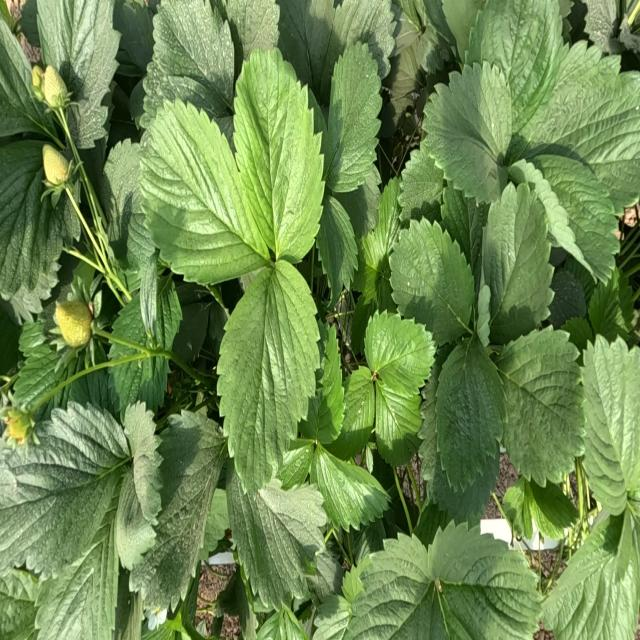Flowers: (146, 608, 166, 630)
Leaves: (218, 262, 319, 495), (138, 106, 264, 283), (1, 404, 127, 575), (234, 47, 323, 263), (133, 412, 226, 608), (469, 0, 566, 147), (511, 153, 619, 281), (496, 328, 584, 484), (430, 522, 542, 639), (229, 475, 326, 606), (422, 63, 513, 201), (419, 367, 499, 523), (543, 509, 639, 638), (143, 1, 234, 127), (483, 182, 551, 342), (435, 339, 503, 494), (0, 146, 64, 310), (391, 219, 474, 344), (525, 41, 618, 152), (345, 534, 438, 639), (35, 521, 118, 638), (580, 335, 639, 492), (575, 72, 639, 209), (37, 0, 119, 106), (351, 180, 401, 350), (326, 42, 383, 191), (389, 0, 456, 126), (108, 297, 164, 412), (311, 446, 388, 529), (0, 18, 53, 136), (561, 268, 636, 350), (364, 312, 435, 396), (100, 139, 147, 265), (328, 1, 395, 76), (277, 0, 334, 86), (124, 401, 162, 523), (329, 366, 375, 459), (307, 324, 343, 442), (316, 196, 358, 297), (116, 469, 156, 570), (388, 9, 422, 126), (441, 187, 486, 272), (375, 384, 421, 466), (226, 0, 279, 70), (14, 344, 65, 409), (399, 146, 443, 221), (140, 255, 178, 339), (525, 480, 578, 539), (216, 564, 255, 639), (114, 1, 154, 71), (442, 0, 484, 60), (1, 568, 35, 639), (69, 370, 119, 417), (548, 269, 586, 327), (172, 303, 207, 365), (200, 488, 230, 559), (503, 476, 534, 539), (414, 500, 452, 548), (583, 0, 617, 52), (308, 549, 343, 599), (257, 605, 308, 639), (313, 595, 351, 639), (71, 103, 107, 147), (352, 519, 385, 562), (21, 324, 40, 343)
Strawberries: (54, 298, 91, 347), (0, 407, 34, 446), (43, 66, 67, 107), (43, 146, 67, 184), (32, 67, 42, 87)
